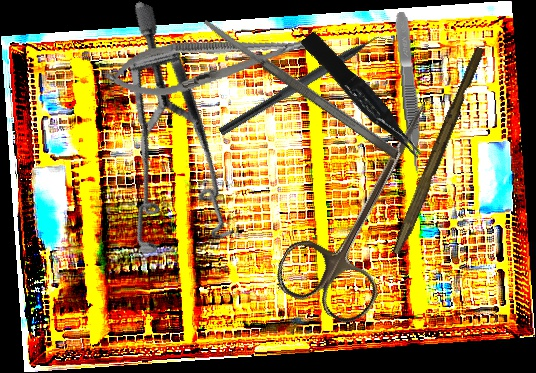Chopper: (217, 23, 399, 148)
Iris Scissors: (268, 78, 465, 332)
Needle Holder: (101, 17, 323, 107)
Scalpel Handle: (391, 44, 487, 258)
Spatula Surgical: (201, 15, 399, 160)
Speculum: (47, 0, 303, 283)
Tissue Forceps: (300, 26, 425, 168), (393, 11, 424, 172)
